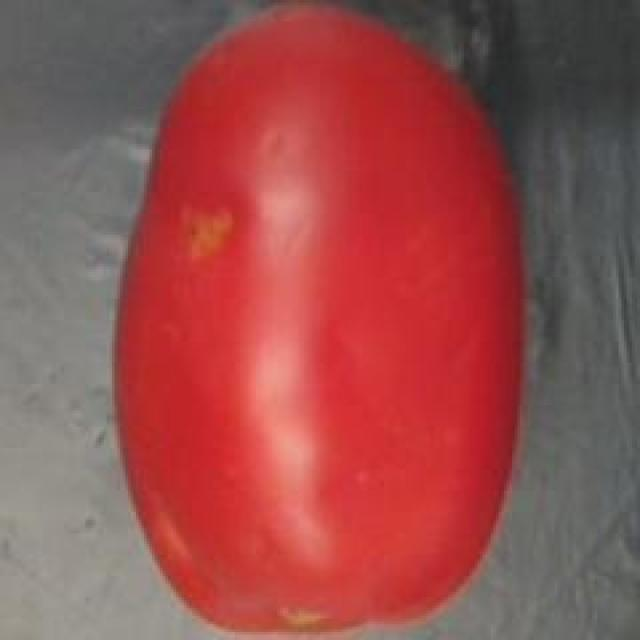ripe tomato: (98, 2, 546, 640)
